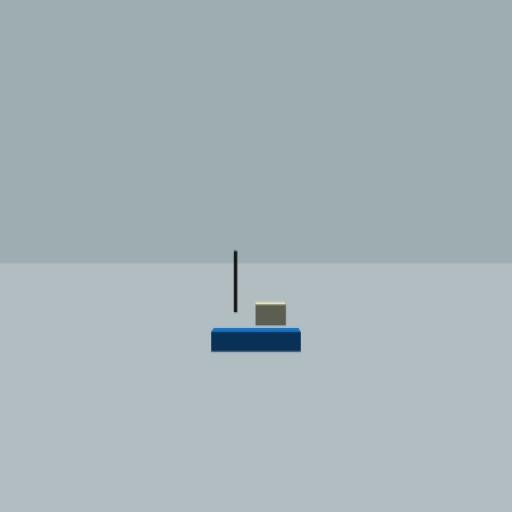fishing_boat: (210, 250, 302, 355)
